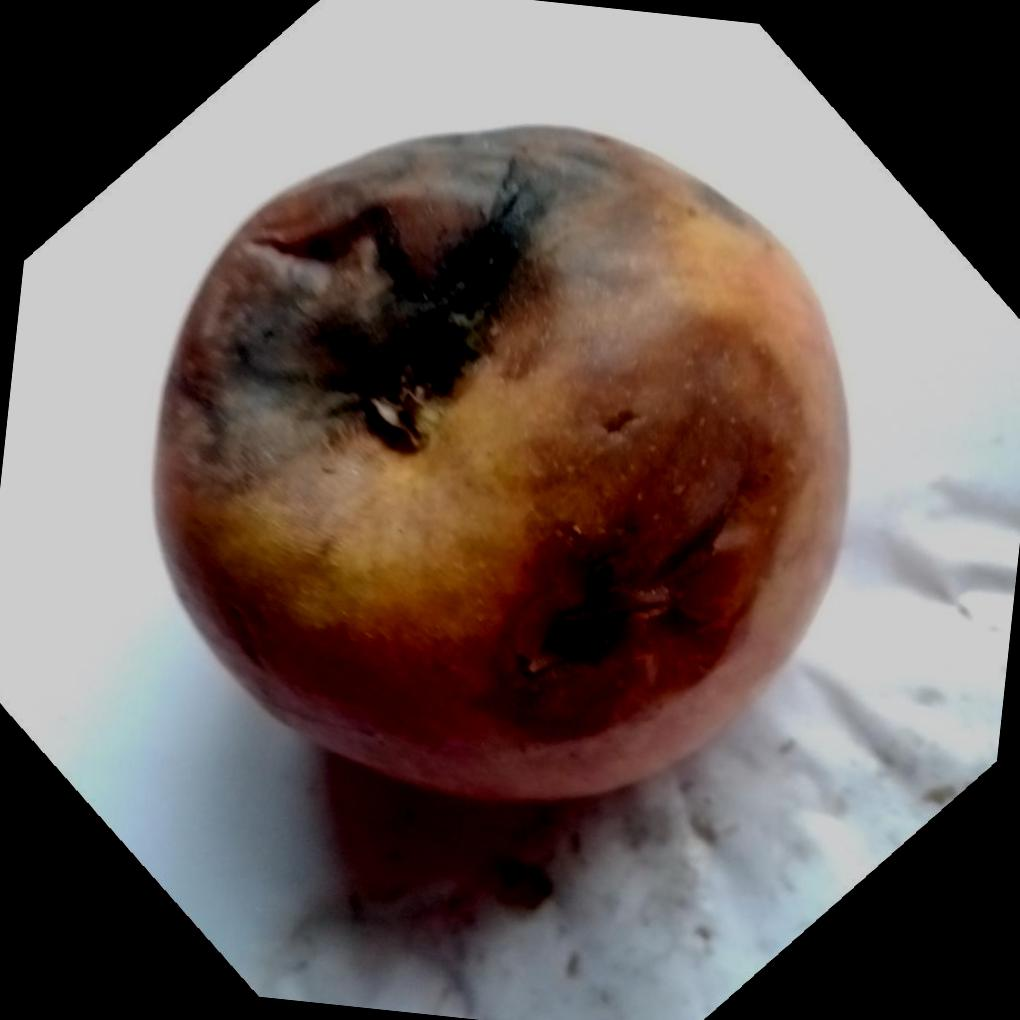FreshOrange: (149, 125, 852, 813)
